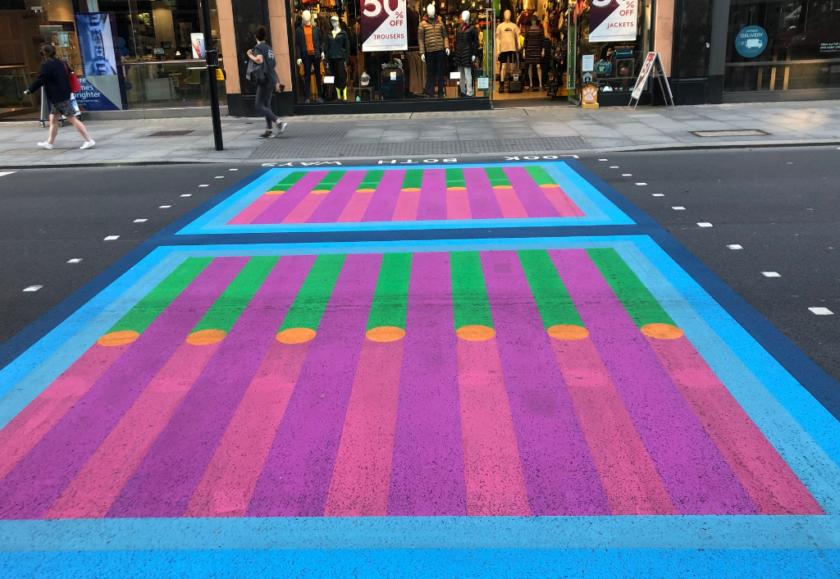Crosswalk: (17, 160, 837, 577)
Person: (22, 40, 101, 153), (238, 32, 299, 136)
